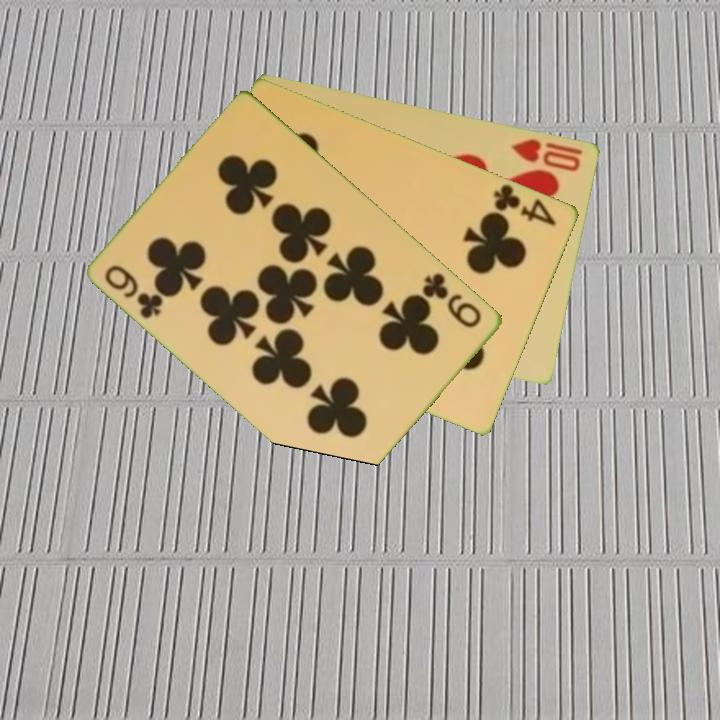10h: (508, 135, 587, 175)
4c: (490, 180, 560, 229)
9c: (419, 269, 485, 331), (102, 261, 167, 322)
